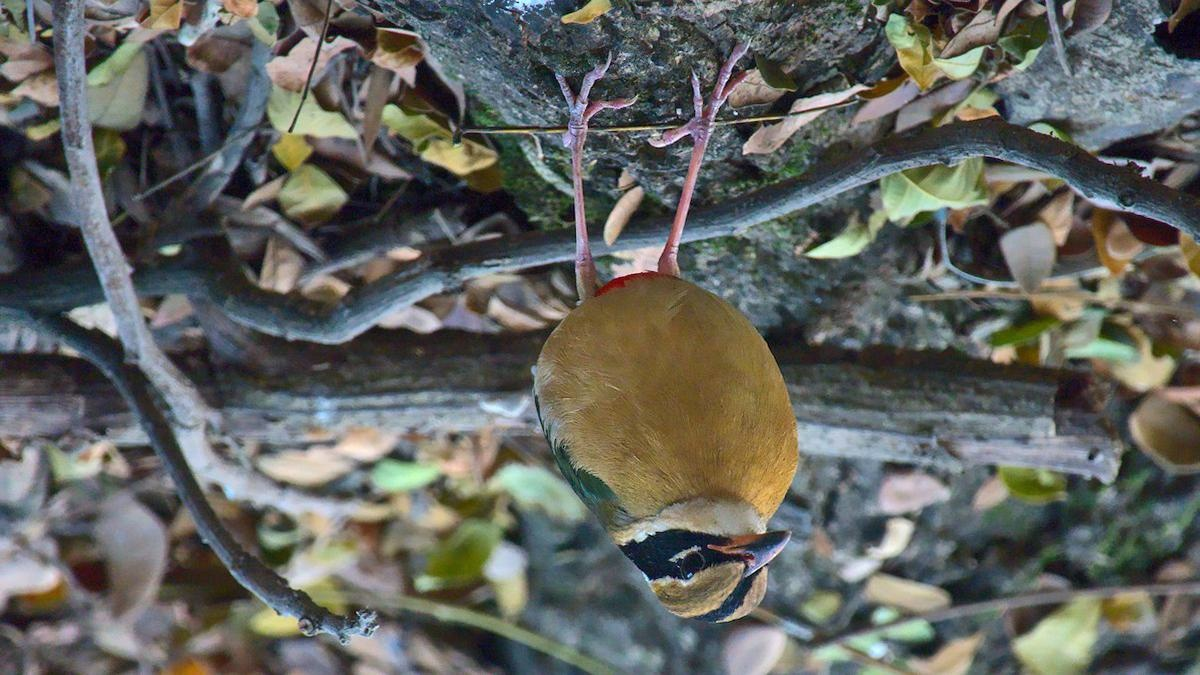pitta: (515, 94, 794, 632)
